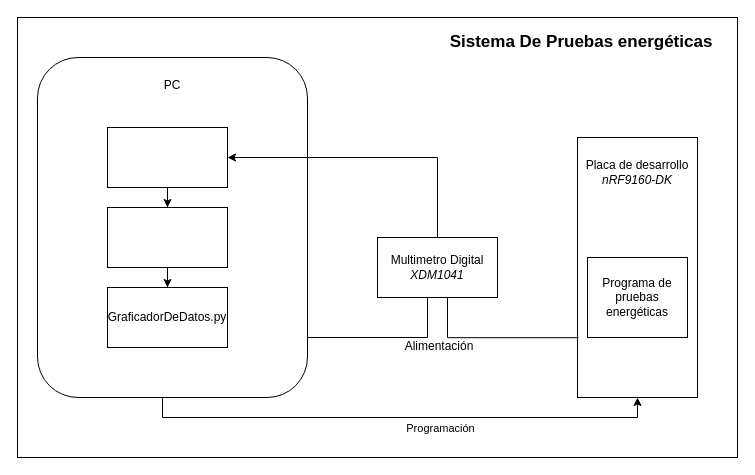
The diagram is 755 pixels wide and 475 high, and some of its shapes have lost their labels. Here are the shapes that lost their labels. From the top down, the centre of each, then its label:
At (x=167, y=157): "DMMEasyControl".
At (x=167, y=237): "Log.csv".
